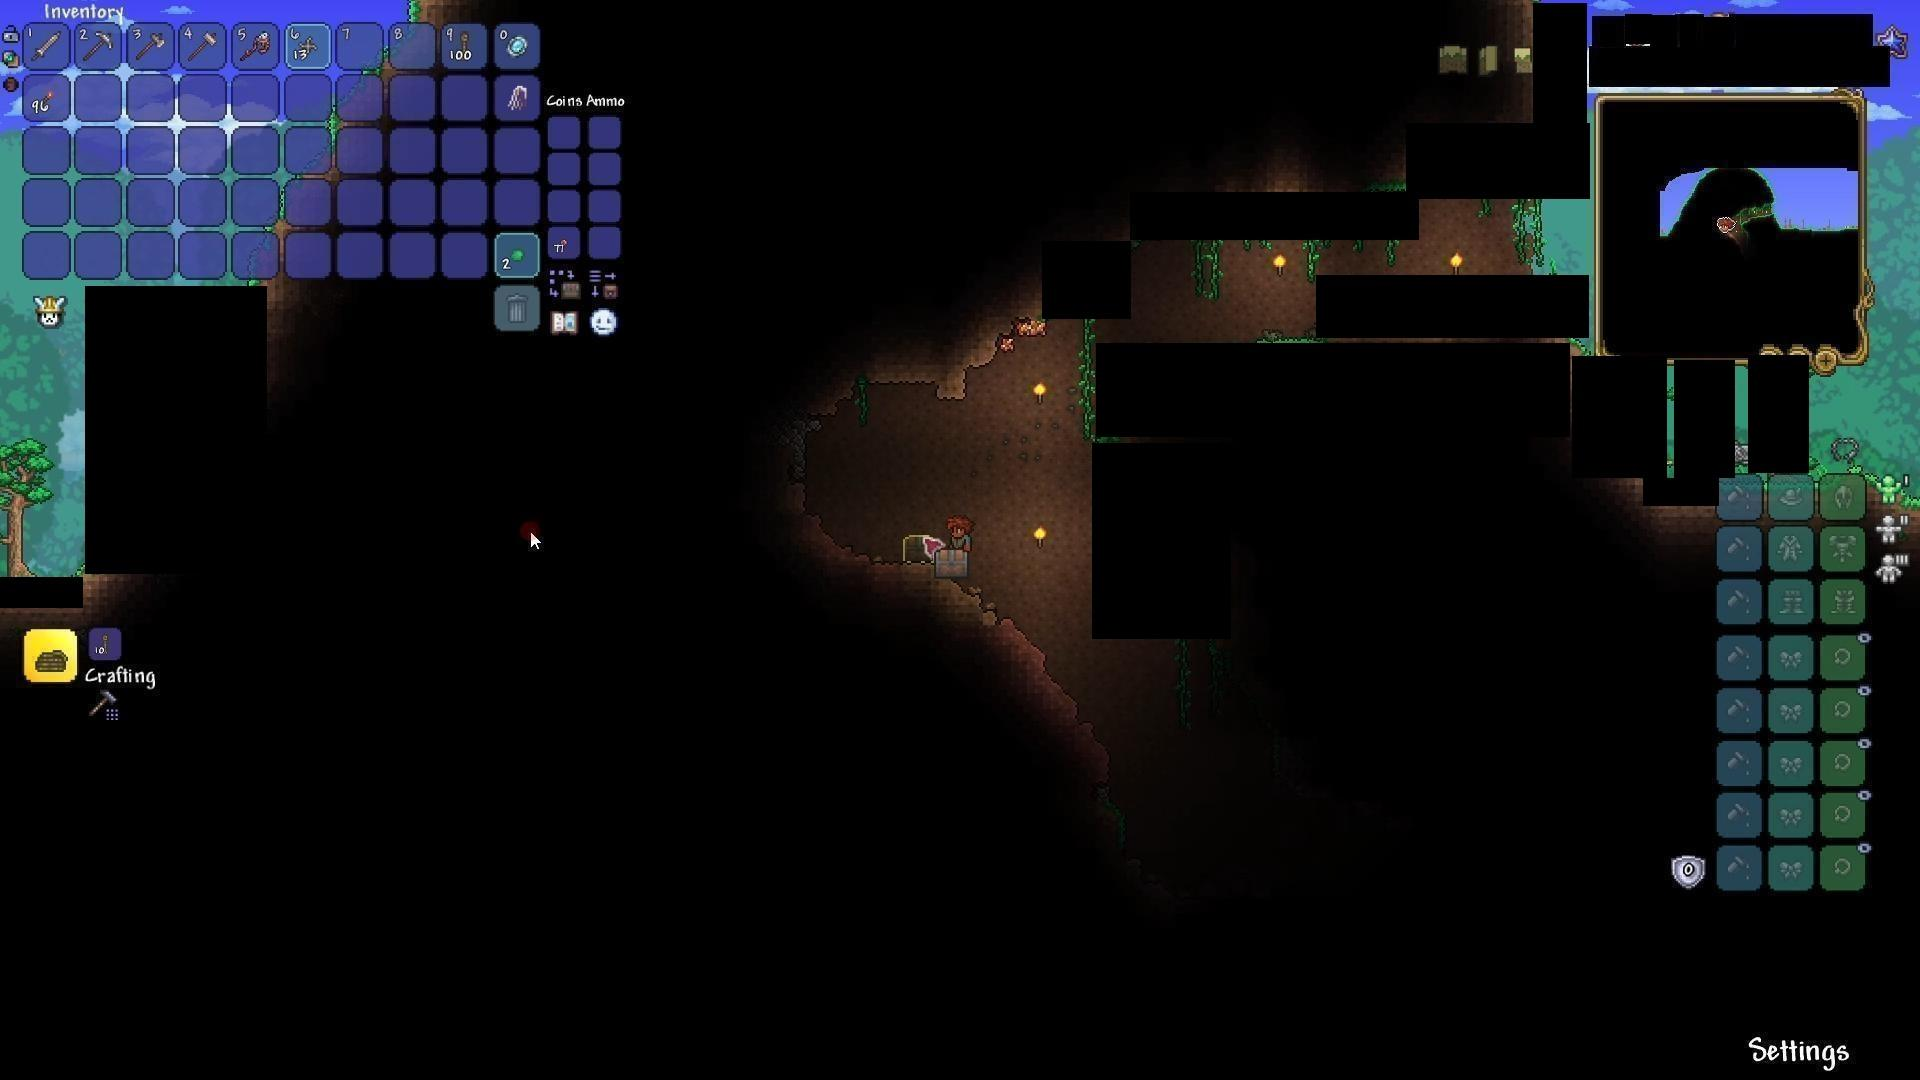tree: (0, 433, 61, 572)
